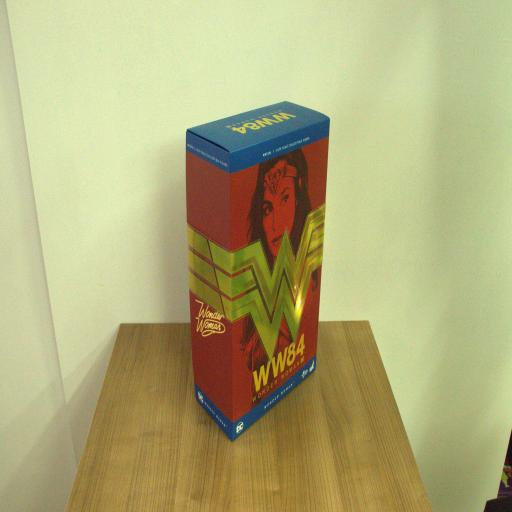WonderWoman: (185, 100, 330, 442)
